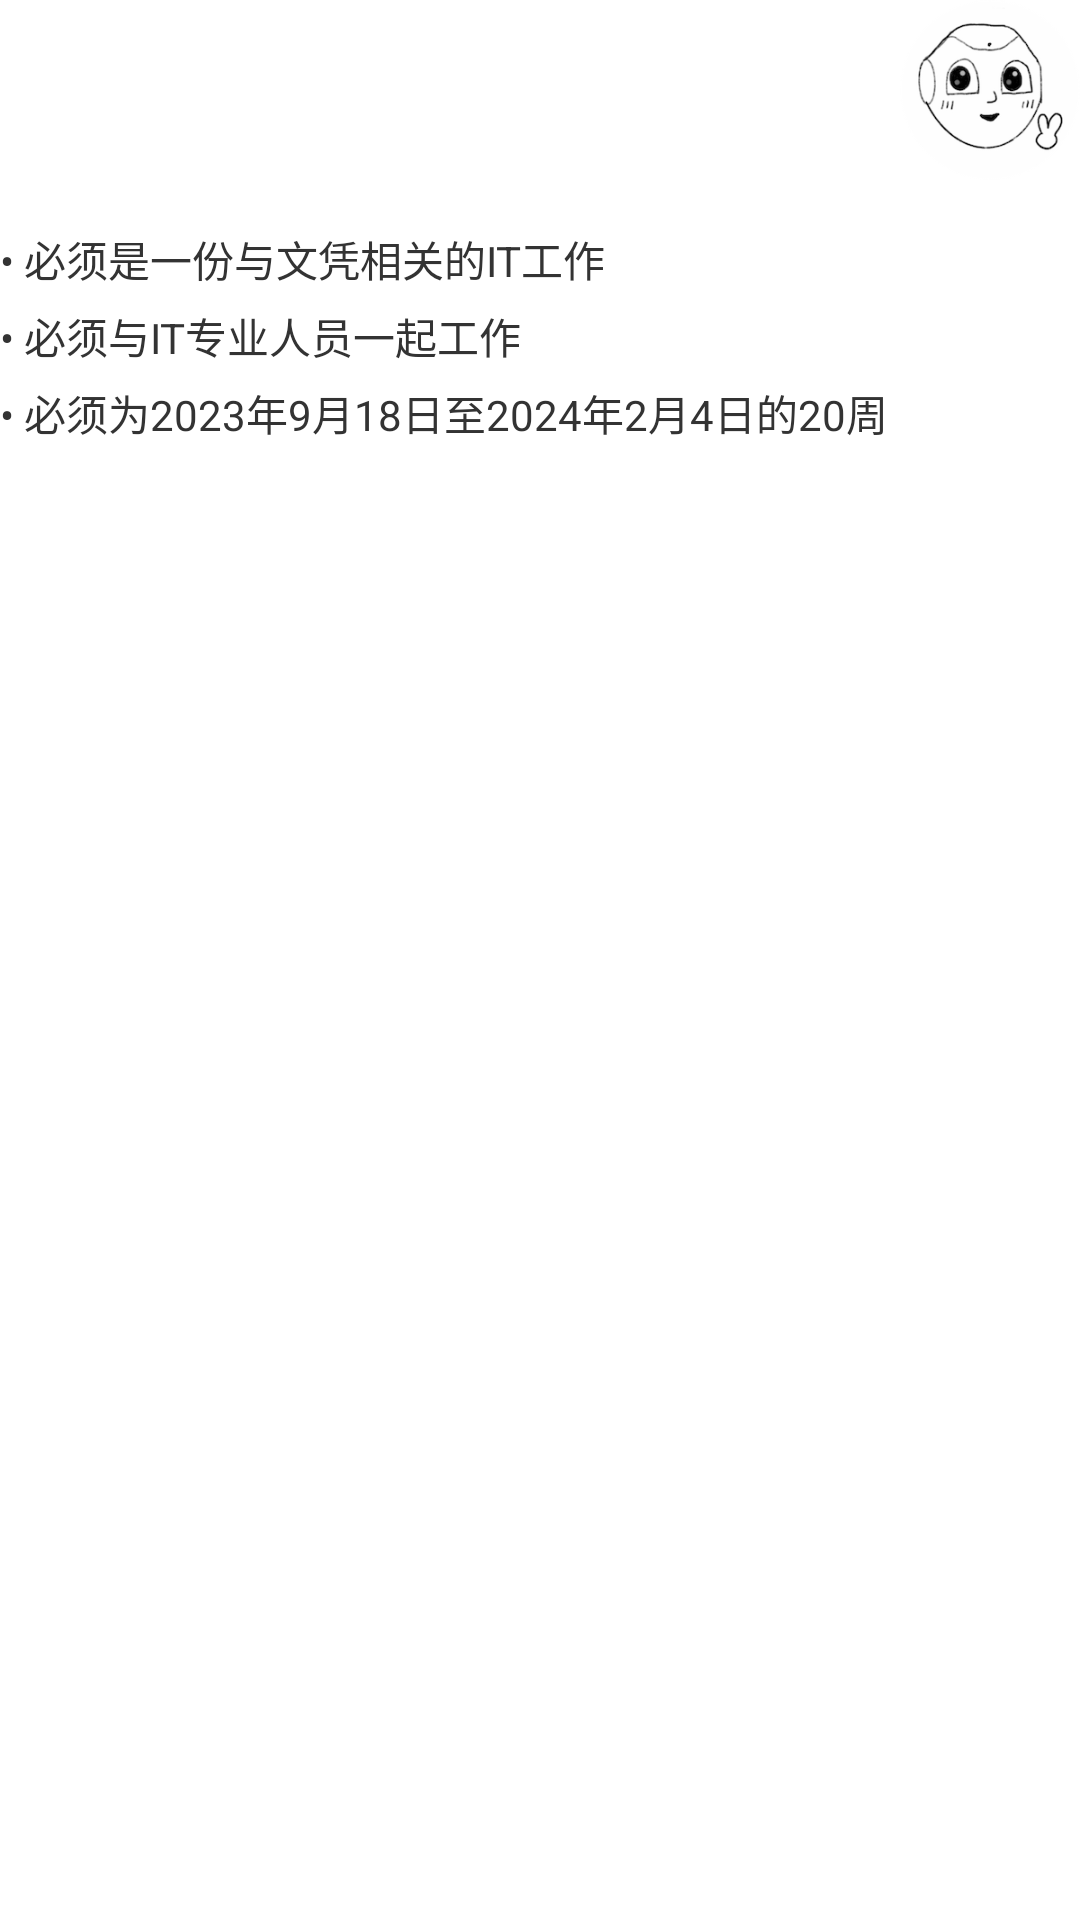

Named icons in this screenshot (1080px x 1920px) and their centers, (x,y):
robot: (990,86)
